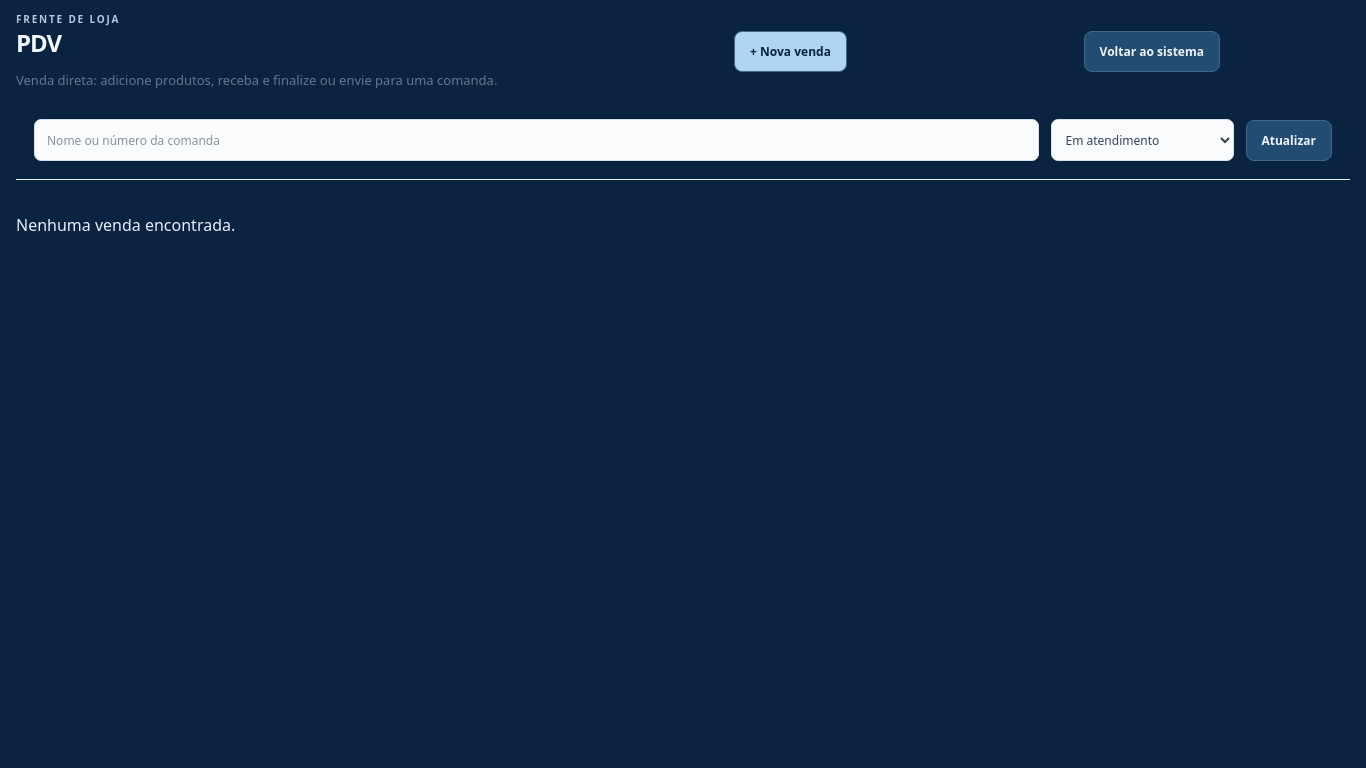
separates PDV drafts from comandas and opens the new sale immediately
Click the button "+ Nova venda".
click(790, 52)  # box [734,31,847,72]
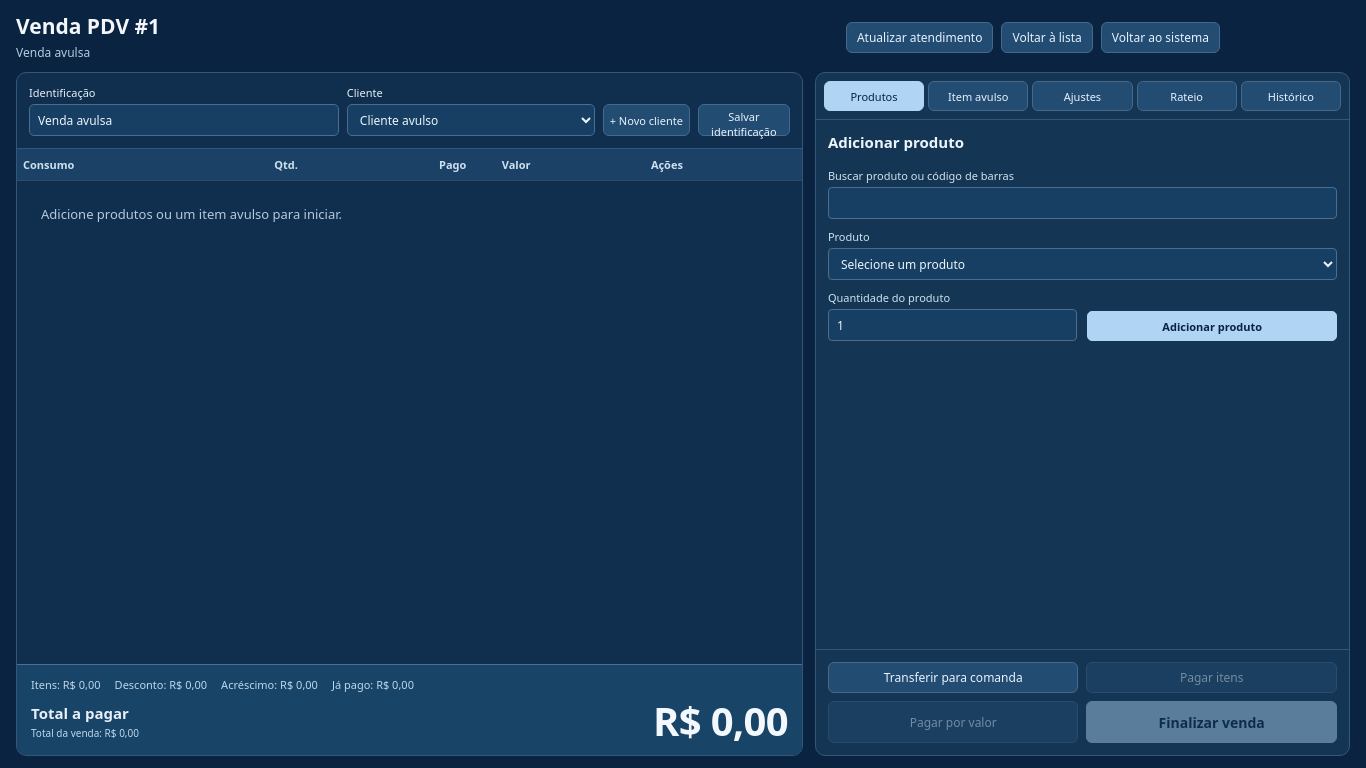
Expected: the heading "Venda PDV #1" is shown, [16,12,160,40]
Expected: the button "Finalizar venda" is shown, [1086,701,1337,743]
Expected: the dropdown labelled "Cliente" shows "Cliente avulso", [347,104,595,136]
